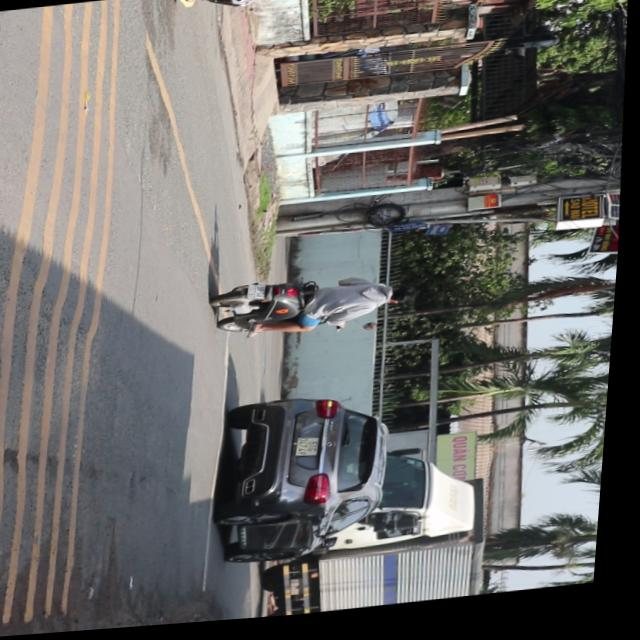licenseplate: (212, 269, 425, 346), (162, 0, 441, 17)
motorcyclist: (391, 288, 423, 309)
nohelmet: (252, 287, 271, 303)
